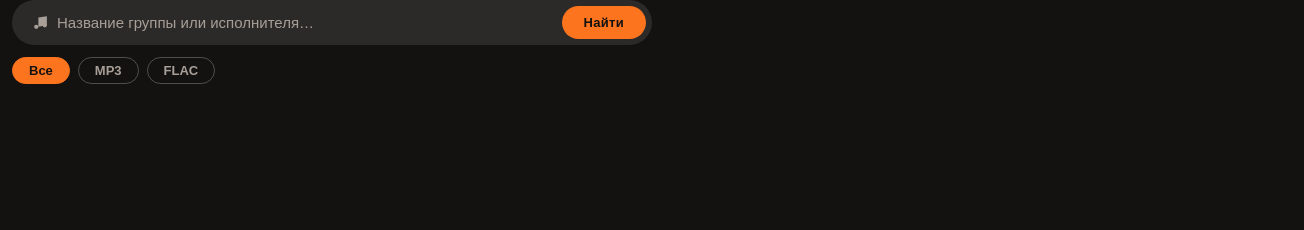
Scenario: SearchBar — history dropdown + outside click + keyboard › focus opens the dropdown when history is non-empty
Focus the field with class "search-input" at point(305, 22), box [57, 8, 554, 37]
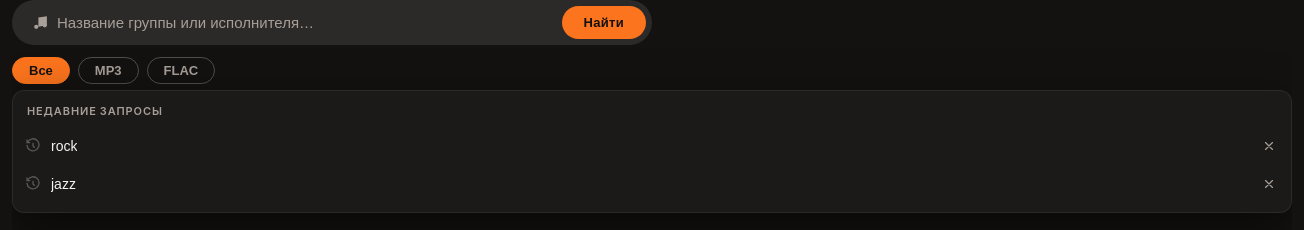
Now the list with class "search-history-dropdown" is shown, box [12, 90, 1292, 212]
Now the number of list items with class "search-history-item" is 2, box [13, 128, 1291, 164]; [13, 166, 1291, 202]
